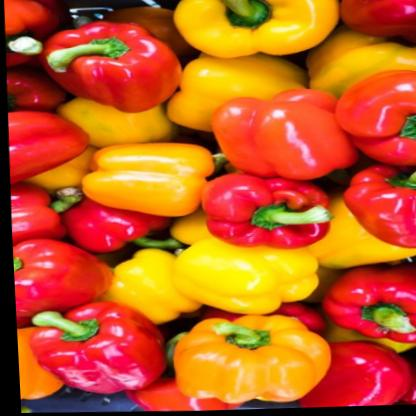bell_pepper: (160, 309, 336, 408), (200, 74, 354, 185), (23, 295, 175, 399), (36, 17, 192, 117), (72, 135, 220, 217), (196, 173, 342, 256)
